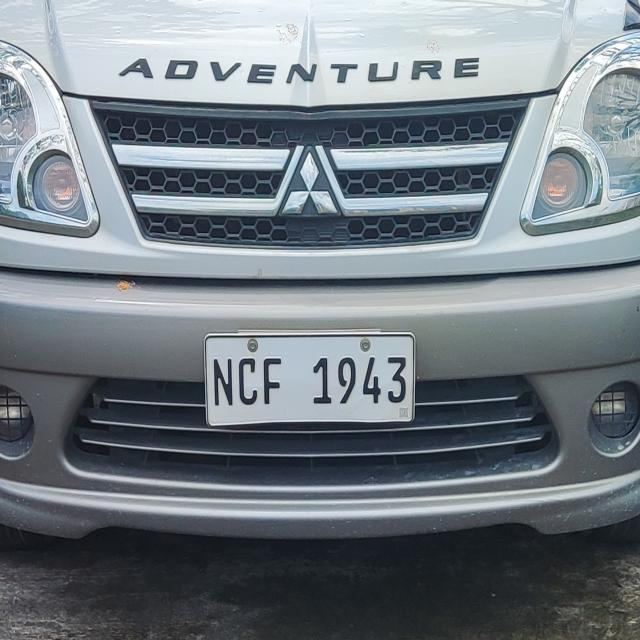plate: (202, 330, 418, 430)
